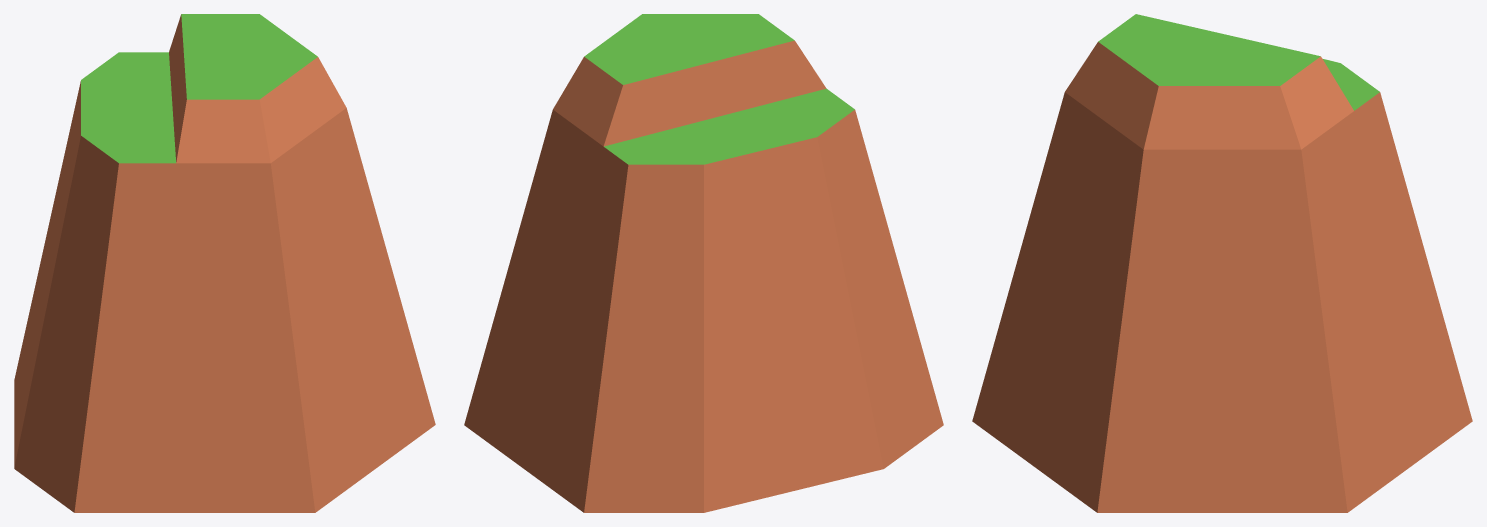
The model's file is rock_tallE.glb.
The picture shows the model from 3 angles, left to right: view 1: azimuth 30°, elevation 25°; view 2: azimuth 150°, elevation 25°; view 3: azimuth 270°, elevation 25°; orthographic projection. The views are drawn at different scales.
Parts seen in each view (by area): view 1: rock_tallE; view 2: rock_tallE; view 3: rock_tallE.
Boxes of the visible parts, <box> form: rock_tallE: <box>14,14,435,512</box>; rock_tallE: <box>464,14,943,512</box>; rock_tallE: <box>972,14,1472,512</box>.
Size of the model in its own units: 0.4562 by 0.4438 by 0.5268.
